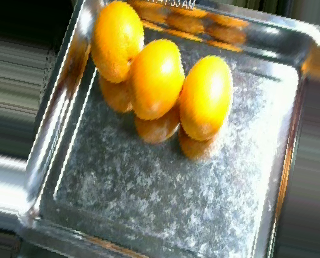Orange: (127, 38, 185, 120), (179, 55, 233, 139), (91, 1, 144, 83)
